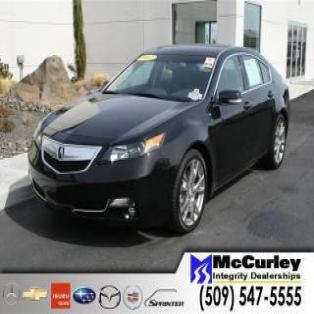Auto: (27, 43, 290, 237)
